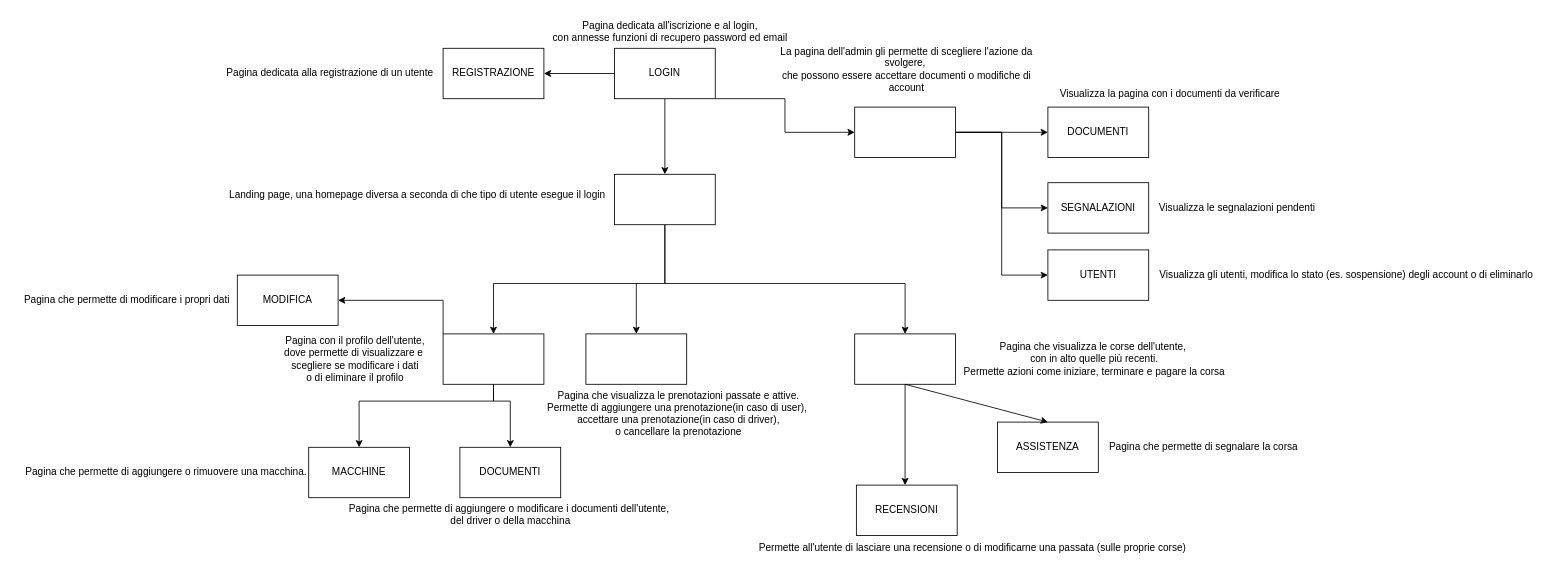
Image size: 1557x575. Some labels were removed from this diagram. The centre of each missing label's shape, as x and y in pixels:
"CORSE" goes at pixel 905 358.
"HOME ADMIN" goes at pixel 905 132.
"LANDING PAGE HOME" goes at pixel 664 199.
"PRENOTAZIONI" goes at pixel 636 358.
"PROFILO" goes at pixel 493 358.
